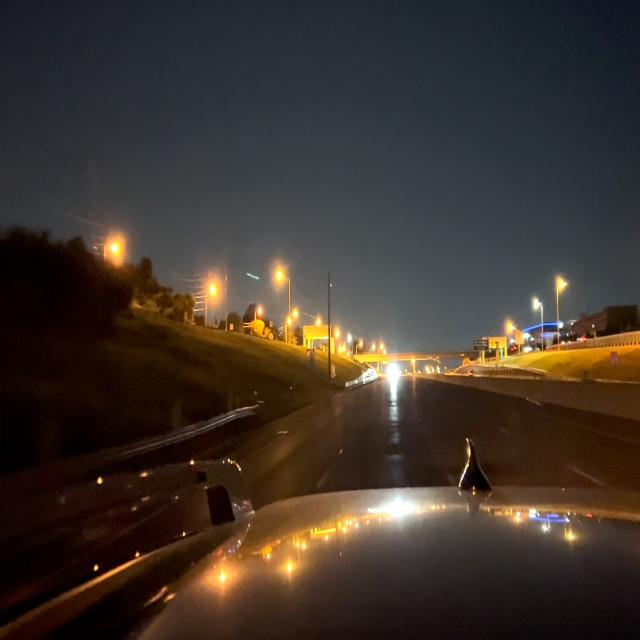back-of-sign: (307, 349, 315, 369)
